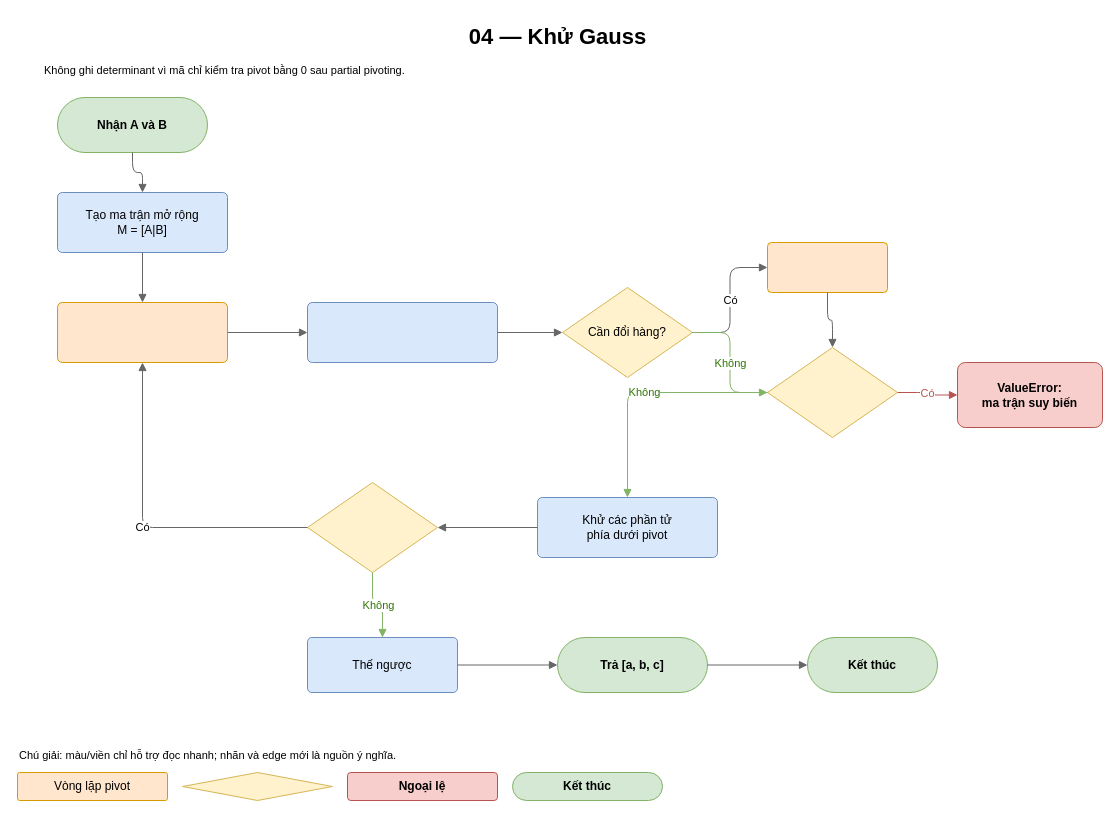
This 1120x818 diagram has some shape labels left out. The centre of each missing label's shape, as x and y in pixels:
Còn cột pivot?: the point at 372,527
Lặp theo từng cột pivot: the point at 142,332
Pivot bằng 0?: the point at 832,392
Tìm hàng có trị tuyệt đối pivot lớn nhất: the point at 402,332
Điều kiện: the point at 257,786
Đổi hàng: the point at 827,267
